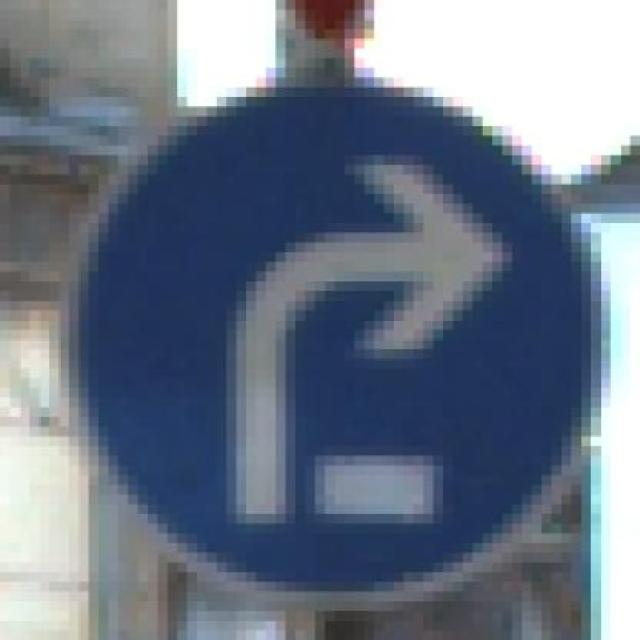Turn right ahead: (69, 68, 611, 602)
